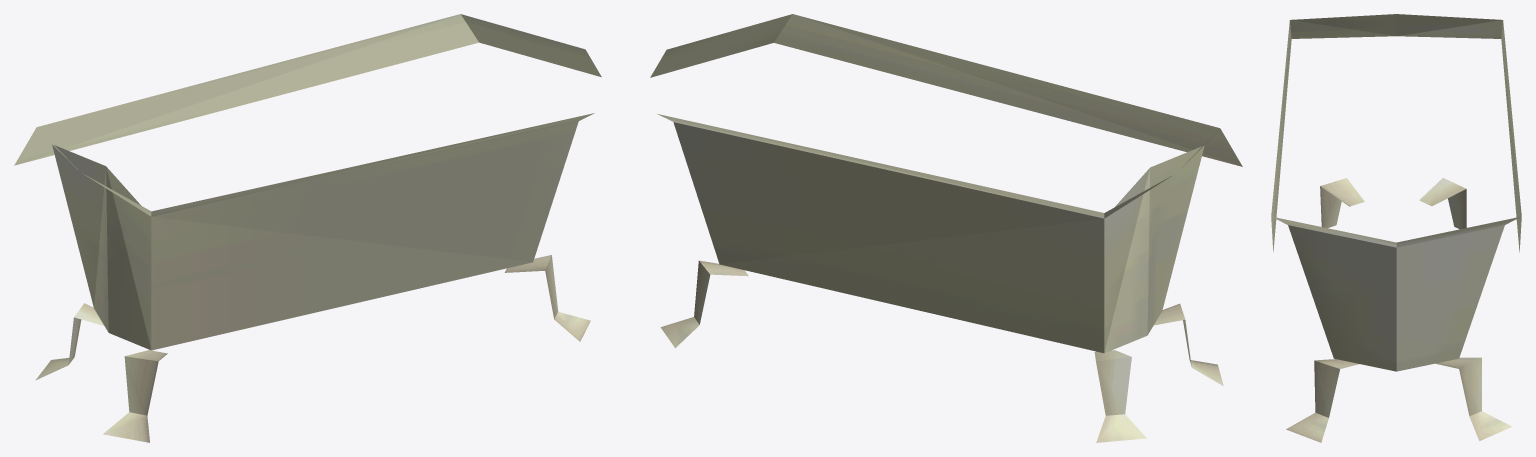
File: Badewanne_1885.glb
3 views of the same model, side by side, from view 1: azimuth 30°, elevation 25°; view 2: azimuth 150°, elevation 25°; view 3: azimuth 270°, elevation 25° (orthographic). The views are drawn at different scales.
Parts seen in each view (by area): view 1: pSphereShape2, pPlaneShape4, pPlaneShape5, pPlaneShape3; view 2: pSphereShape2, pPlaneShape3, pPlaneShape2, pPlaneShape4; view 3: pSphereShape2, pPlaneShape5, pPlaneShape2, pPlaneShape4, pPlaneShape3.
Part boxes in pixels (bbox=[...]): pSphereShape2: bbox=[14, 14, 601, 350]; pPlaneShape4: bbox=[103, 350, 167, 442]; pPlaneShape5: bbox=[504, 255, 590, 341]; pPlaneShape3: bbox=[35, 303, 104, 380]; pSphereShape2: bbox=[650, 14, 1242, 353]; pPlaneShape3: bbox=[1094, 350, 1146, 442]; pPlaneShape2: bbox=[660, 260, 748, 348]; pPlaneShape4: bbox=[1154, 303, 1223, 385]; pSphereShape2: bbox=[1271, 14, 1521, 371]; pPlaneShape5: bbox=[1286, 359, 1359, 442]; pPlaneShape2: bbox=[1436, 357, 1511, 441]; pPlaneShape4: bbox=[1320, 178, 1364, 228]; pPlaneShape3: bbox=[1419, 178, 1467, 229].
Bounding box in the file's own units: 0.2598 × 0.1077 × 0.113.
Materials: 5 (5 with a texture image).
